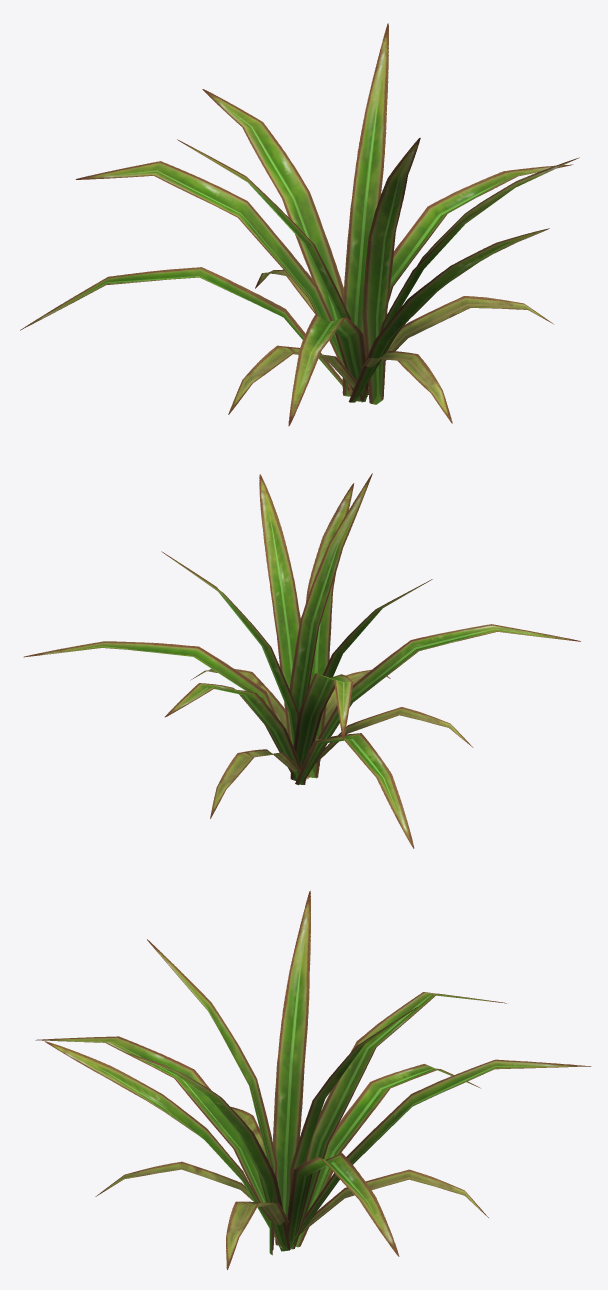
The model's file is grass_Tropical_01.FBX.
3 views of the same model, one above another, from view 1: azimuth 30°, elevation 25°; view 2: azimuth 150°, elevation 25°; view 3: azimuth 270°, elevation 25° (orthographic). The views are drawn at different scales.
Visible parts, largest first — view 1: grass_Tropical_01; view 2: grass_Tropical_01; view 3: grass_Tropical_01.
Boxes of the visible parts, x1,y1,x2,y2 form: grass_Tropical_01: (20, 23, 579, 426); grass_Tropical_01: (23, 473, 580, 848); grass_Tropical_01: (35, 890, 591, 1269).
Size of the model in its own units: 78.97 by 46.11 by 77.62.
